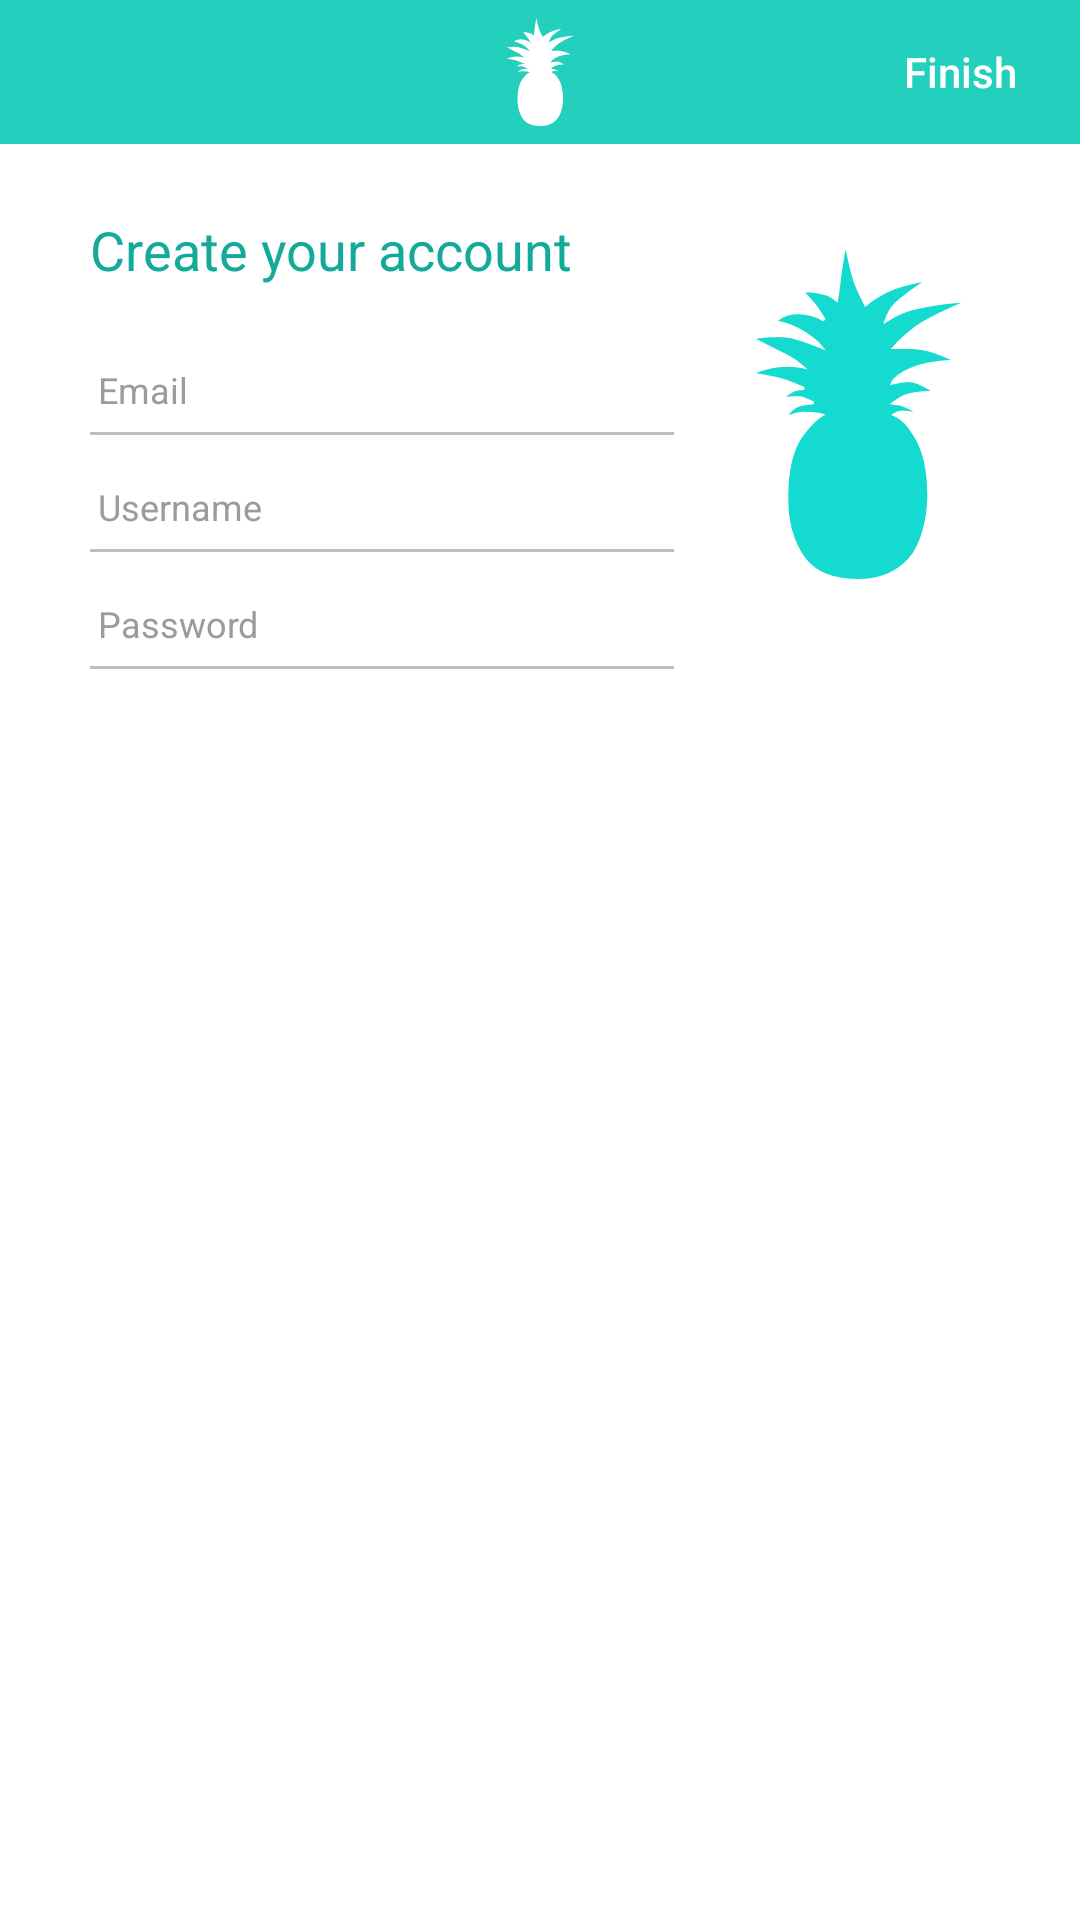

Point at icon controls on the screen. Image size 1080w x 1920h, points as (x=x, y=y).
pine: (x=858, y=414)
pine toolbar: (x=540, y=72)
